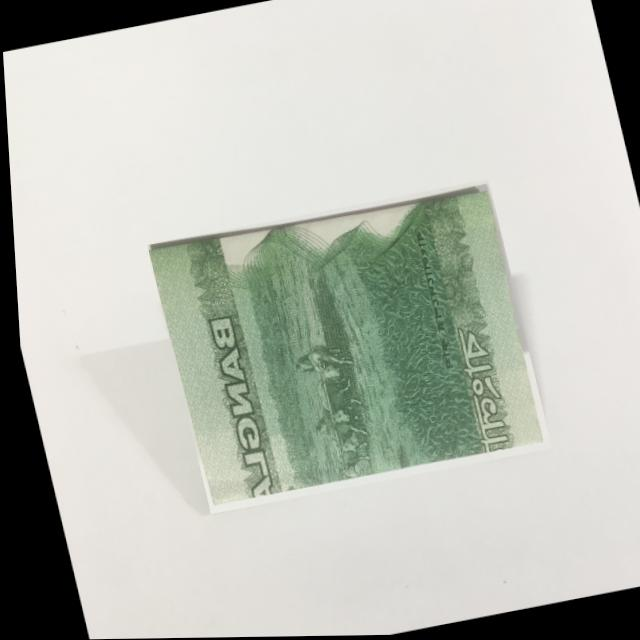Taka: (141, 179, 549, 515)
